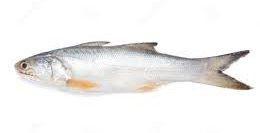Fourfinger Threadfish: (14, 40, 256, 95)
